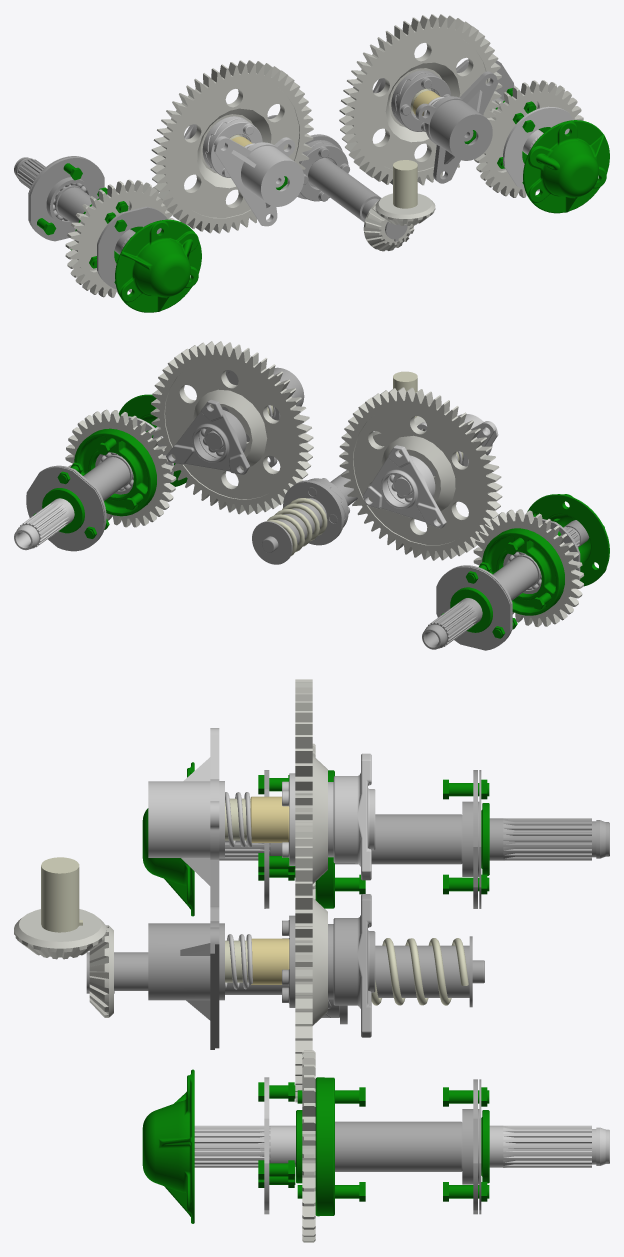
File: GearboxAssy.gltf
3 views of the same model, one above another, from view 1: azimuth 30°, elevation 25°; view 2: azimuth 150°, elevation 25°; view 3: azimuth 270°, elevation 25° (orthographic). The views are drawn at different scales.
Parts seen in each view (by area): view 1: body_10 (×2), body_19 (×2), body_25 (×2), body_24 (×3), object 76, body_6, body_16 (×2), body_12, object 31, object 75, body_15, body_18 (+6 smaller); view 2: body_10 (×2), body_25 (×2), body_26 (×2), body_28 (×2), body_19 (×2), body_4, object 78, body_27 (×2), object 8, body_12, body_14, body_30 (+5 smaller); view 3: body_27 (×2), body_10 (×2), body_30, body_6, object 76, body_19 (×2), object 8, body_16 (×2), object 78, body_4, body_26 (×2), body_8 (×2) (+11 smaller).
Boxes of the visible parts, x1,y1,x2,y2 form: body_10 (×2): (150, 14, 502, 233); body_19 (×2): (115, 120, 609, 312); body_25 (×2): (65, 80, 583, 297); body_24 (×3): (29, 60, 514, 289); object 76: (415, 71, 498, 183); body_6: (214, 136, 304, 226); body_16 (×2): (363, 193, 435, 251); body_12: (267, 115, 381, 222); object 31: (503, 106, 573, 191); object 75: (395, 73, 451, 131); body_15: (299, 142, 349, 201); body_18: (393, 160, 417, 208); body_10 (×2): (150, 341, 502, 560); body_25 (×2): (65, 409, 583, 626); body_26 (×2): (74, 428, 564, 615); body_28 (×2): (26, 467, 510, 650); body_19 (×2): (119, 394, 609, 586); body_4: (362, 445, 446, 528); object 78: (166, 399, 249, 474); body_27 (×2): (83, 457, 537, 600); object 8: (422, 520, 589, 649); body_12: (252, 470, 357, 564); body_14: (283, 480, 344, 545); body_30: (14, 426, 160, 550); body_27 (×2): (335, 814, 462, 1171); body_10 (×2): (295, 679, 327, 1102); body_30: (194, 1125, 609, 1167); body_6: (148, 728, 224, 905); object 76: (148, 906, 224, 1049); body_19 (×2): (142, 762, 194, 1223); object 8: (219, 818, 609, 860); body_16 (×2): (14, 909, 113, 1017); object 78: (333, 894, 375, 1037); body_4: (333, 753, 375, 880); body_26 (×2): (315, 770, 334, 1216); body_8 (×2): (250, 796, 289, 984).
Bounding box in the file's own units: 29.77 × 11.32 × 19.31.
